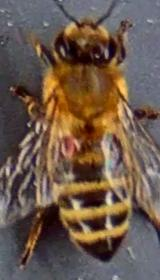varroa_mite: (51, 124, 90, 162)
